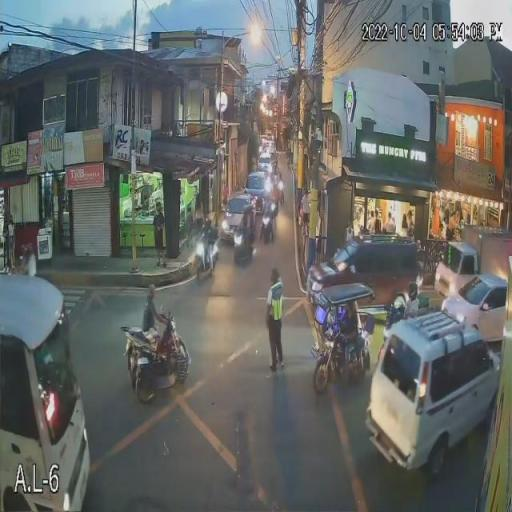helmet: (406, 284, 421, 299), (393, 297, 405, 313), (242, 206, 252, 218)
motorcycle: (120, 322, 192, 396), (384, 292, 422, 331), (192, 237, 219, 275), (232, 227, 254, 264), (260, 210, 277, 246)
rider: (138, 290, 168, 375), (196, 223, 218, 261), (234, 213, 254, 245), (404, 283, 422, 317), (262, 195, 276, 226)
